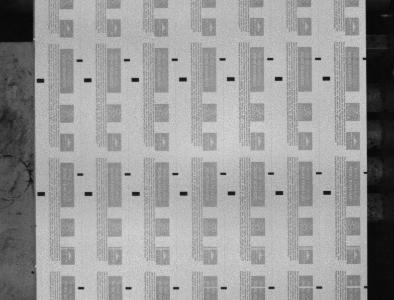backgroundclutter: (31, 271, 35, 274)
incorrect qblock: (364, 171, 368, 174), (363, 57, 367, 60), (364, 286, 368, 289), (34, 265, 37, 268)
qblock: (36, 78, 45, 83), (131, 77, 140, 82), (275, 76, 283, 81), (323, 76, 331, 81), (180, 191, 188, 196), (179, 77, 187, 82), (324, 190, 332, 195), (37, 191, 45, 196), (132, 191, 140, 196), (84, 78, 92, 82), (276, 191, 284, 195), (227, 77, 235, 81), (228, 191, 236, 195), (85, 192, 92, 196)
smallqblock: (125, 286, 132, 290), (78, 286, 85, 289), (316, 286, 323, 289), (76, 59, 83, 62), (267, 57, 274, 60), (77, 173, 84, 176), (172, 172, 179, 175), (220, 172, 227, 175), (268, 172, 275, 175), (269, 286, 275, 289), (173, 286, 179, 289), (221, 286, 227, 289), (315, 57, 321, 60), (124, 58, 130, 61), (220, 58, 226, 61), (172, 58, 178, 61), (125, 173, 131, 176), (316, 171, 322, 174)
